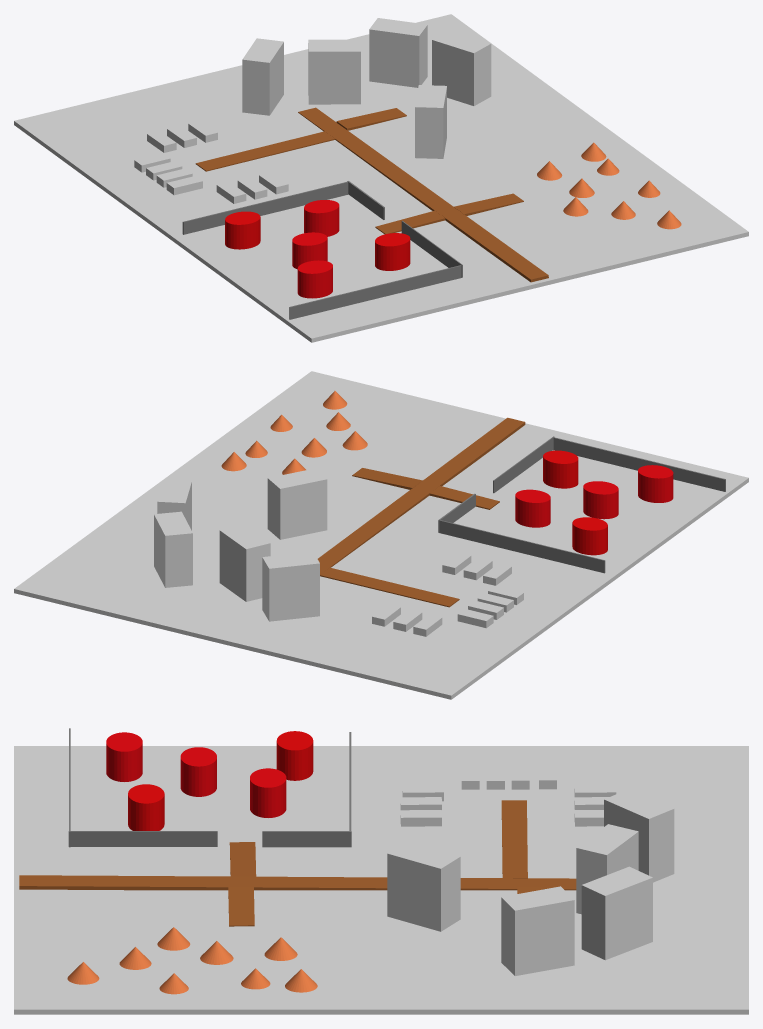
File: site.fbx
3 renders of one model, top to bottom at view 1: azimuth 30°, elevation 25°; view 2: azimuth 150°, elevation 25°; view 3: azimuth 270°, elevation 25°, orthographic. The views are drawn at different scales.
Visible parts, largest first — view 1: Cube, rode.001, building.003, building.004, building, building.001, fence.003, building.002, fence, rode.005, dnager.002, dnager (+7 smaller); view 2: Cube, rode.001, building.002, building.001, building, building.003, fence, fence.003, rode.005, dnager, danger, danger.001 (+6 smaller); view 3: Cube, rode.001, building.004, building.002, building.003, building.001, building, fence.002, rode.005, dnager.001, danger.001, dnager.002 (+18 smaller).
Part boxes in pixels (x1,y1,x2,y2): Cube: [14, 14, 748, 342]; rode.001: [298, 107, 548, 282]; building.003: [369, 18, 427, 87]; building.004: [432, 30, 491, 105]; building: [308, 39, 360, 104]; building.001: [242, 38, 283, 115]; fence.003: [289, 265, 461, 319]; building.002: [415, 85, 446, 158]; fence: [182, 181, 348, 234]; rode.005: [195, 131, 335, 171]; dnager.002: [297, 260, 332, 298]; dnager: [225, 211, 260, 249]; Cube: [14, 371, 748, 699]; rode.001: [317, 417, 525, 574]; building.002: [267, 468, 327, 539]; building.001: [262, 551, 319, 621]; building: [219, 524, 270, 601]; building.003: [154, 511, 192, 587]; fence: [440, 520, 605, 573]; fence.003: [553, 437, 725, 491]; rode.005: [320, 567, 459, 607]; dnager: [572, 517, 607, 555]; danger: [543, 450, 578, 488]; danger.001: [515, 489, 550, 527]; Cube: [14, 746, 748, 1014]; rode.001: [19, 875, 576, 890]; building.004: [501, 886, 574, 975]; building.002: [387, 841, 460, 931]; building.003: [581, 866, 652, 960]; building.001: [604, 789, 674, 882]; building: [576, 824, 638, 914]; fence.002: [68, 831, 217, 846]; rode.005: [501, 800, 527, 878]; dnager.001: [180, 747, 216, 796]; danger.001: [250, 768, 286, 817]; dnager.002: [106, 732, 142, 781].
Size of the model in its own units: 24948 by 3131 by 29399.
